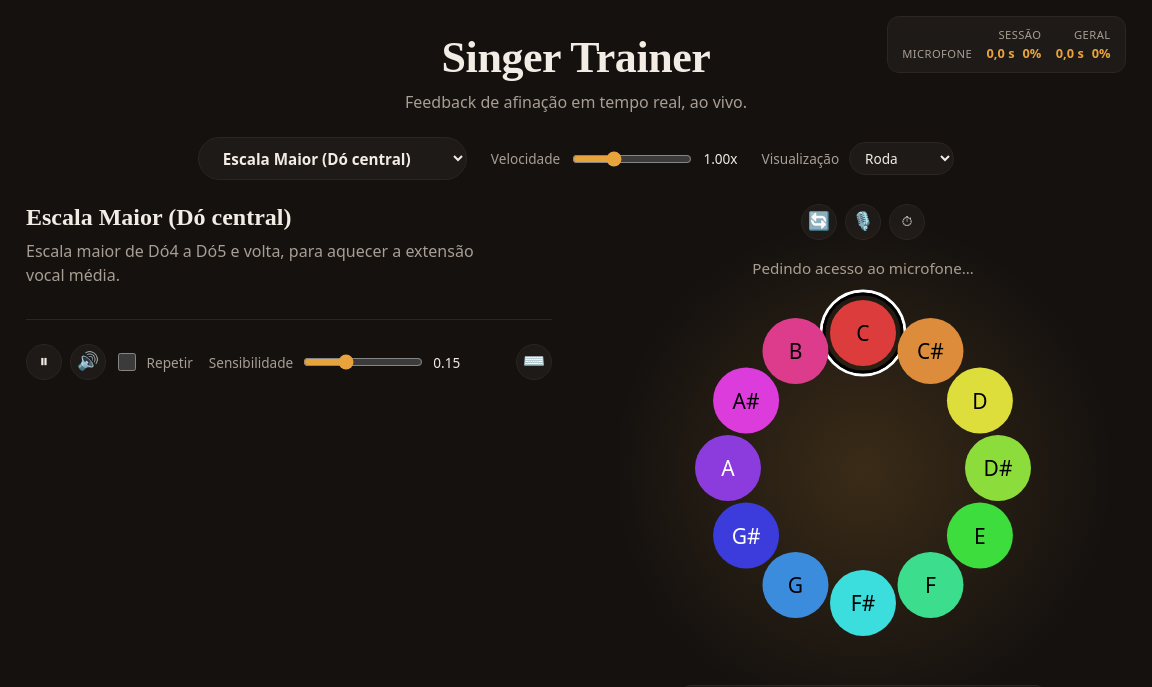
Scenario: App › goes to the next exercise with PageDown and wraps from the last to the first
The image size is (1152, 687).
Step 1. Press PageDown
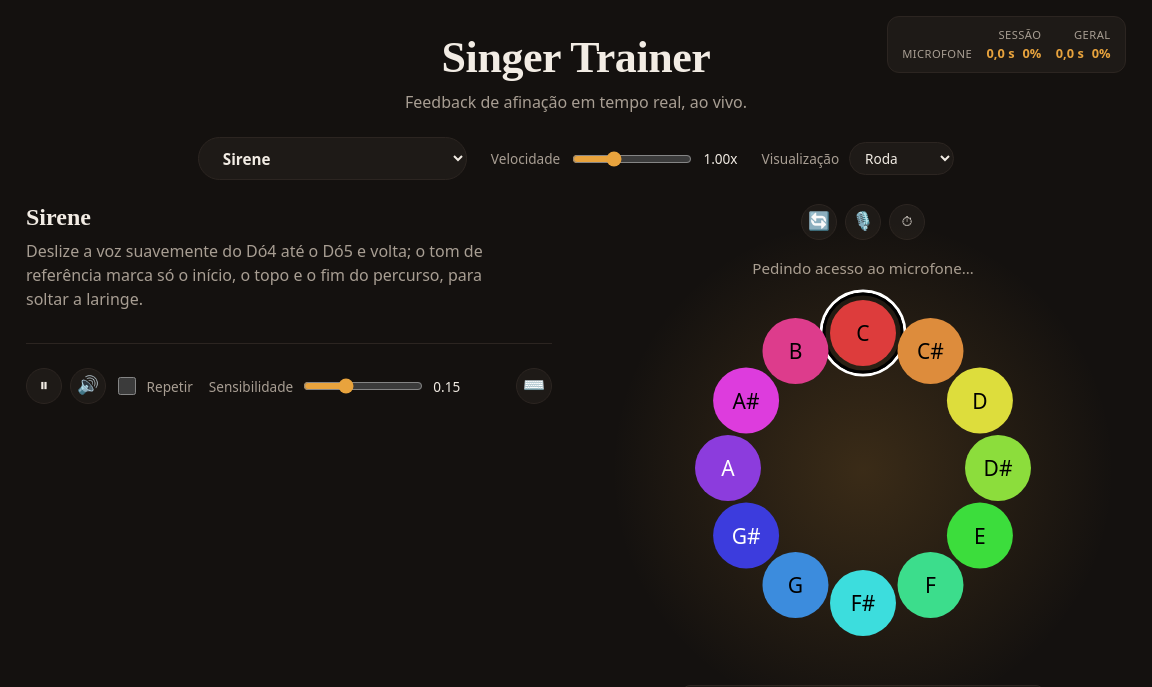
expect the heading "Sirene" is shown: met, box [26,204,91,231]
Step 2. Select "Entrada de áudio" in the dropdown named "Exercício" → (332, 159), box [198,137,467,180]
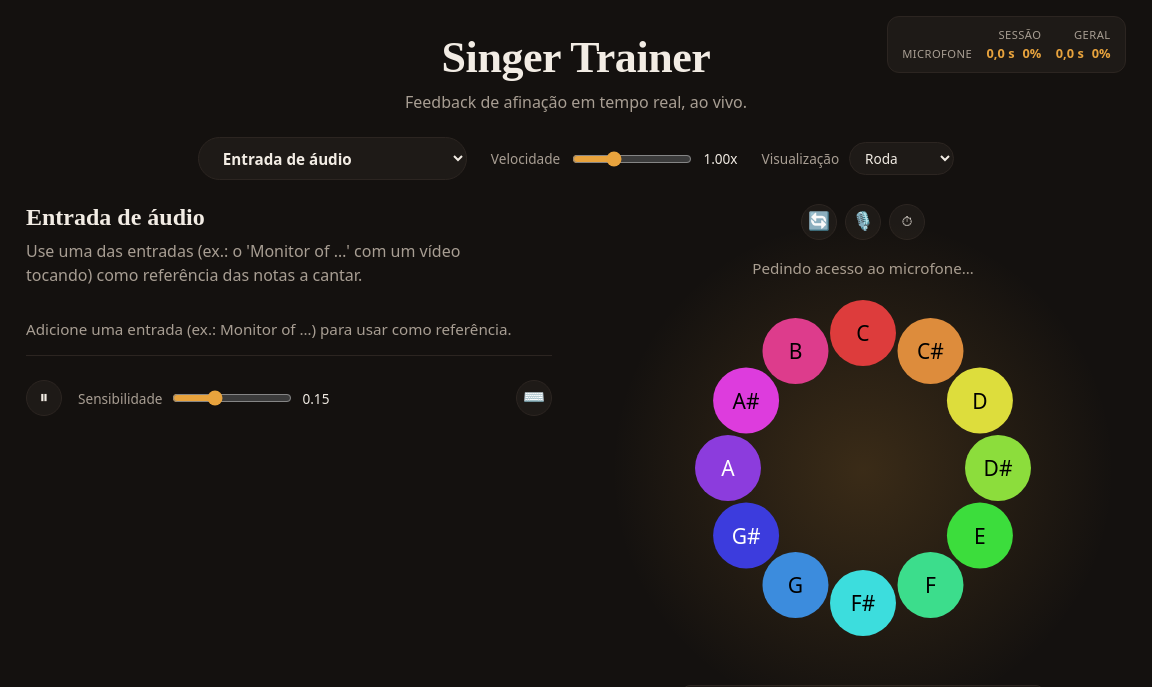
Step 3. Press ]
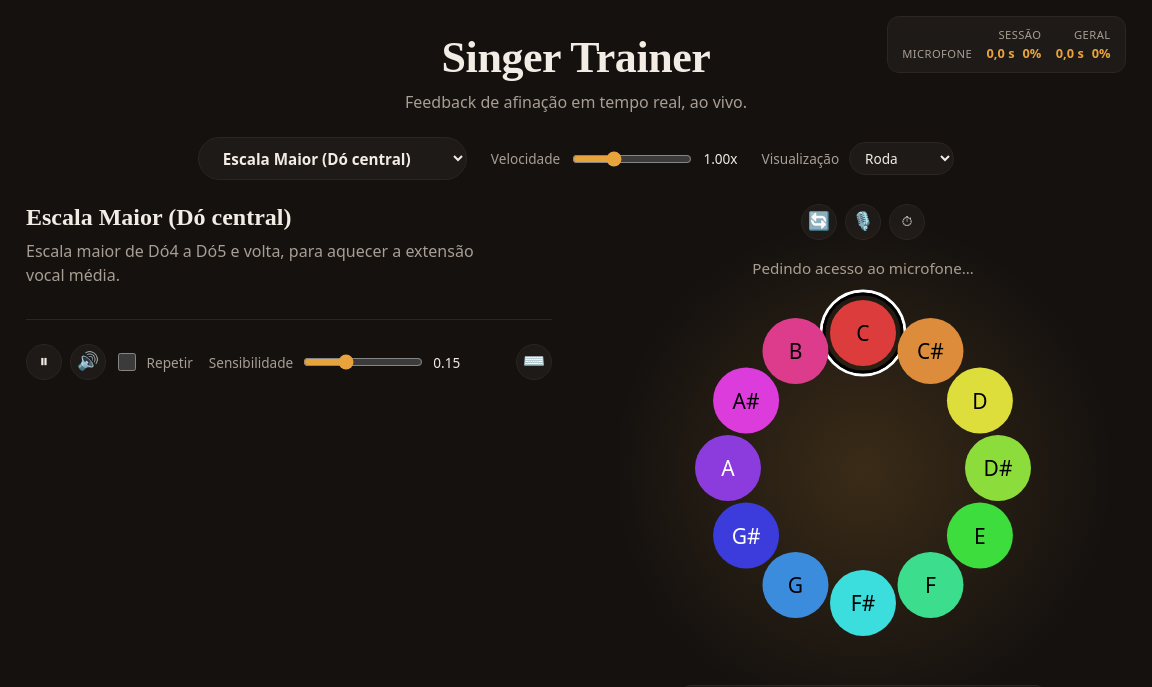
expect the heading "Escala Maior (Dó central)" is shown: met, box [26,204,292,231]
